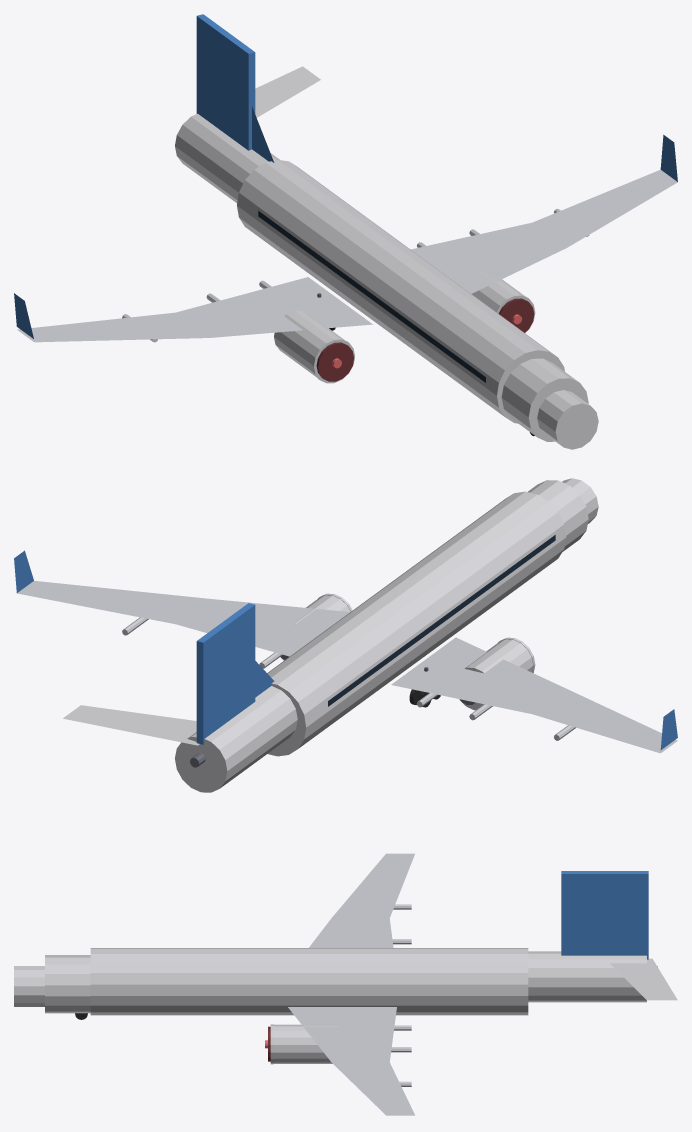
File: skycourier_b737_lod0.glb
The picture shows the model from 3 angles, top to bottom: view 1: azimuth 30°, elevation 25°; view 2: azimuth 150°, elevation 25°; view 3: azimuth 270°, elevation 25°; orthographic projection. The views are drawn at different scales.
Parts seen in each view (by area): view 1: Airliner_Airframe, Turbofan_Fans, Cockpit_Glass; view 2: Airliner_Airframe, Cockpit_Glass; view 3: Airliner_Airframe.
Boxes of the visible parts, <box> form: Airliner_Airframe: <box>14,14,677,449</box>; Turbofan_Fans: <box>316,298,534,381</box>; Cockpit_Glass: <box>258,211,485,382</box>; Airliner_Airframe: <box>14,478,677,792</box>; Cockpit_Glass: <box>328,535,555,706</box>; Airliner_Airframe: <box>14,853,677,1115</box>.
Bounding box in the file's own units: 34.6 × 9.25 × 36.4.
